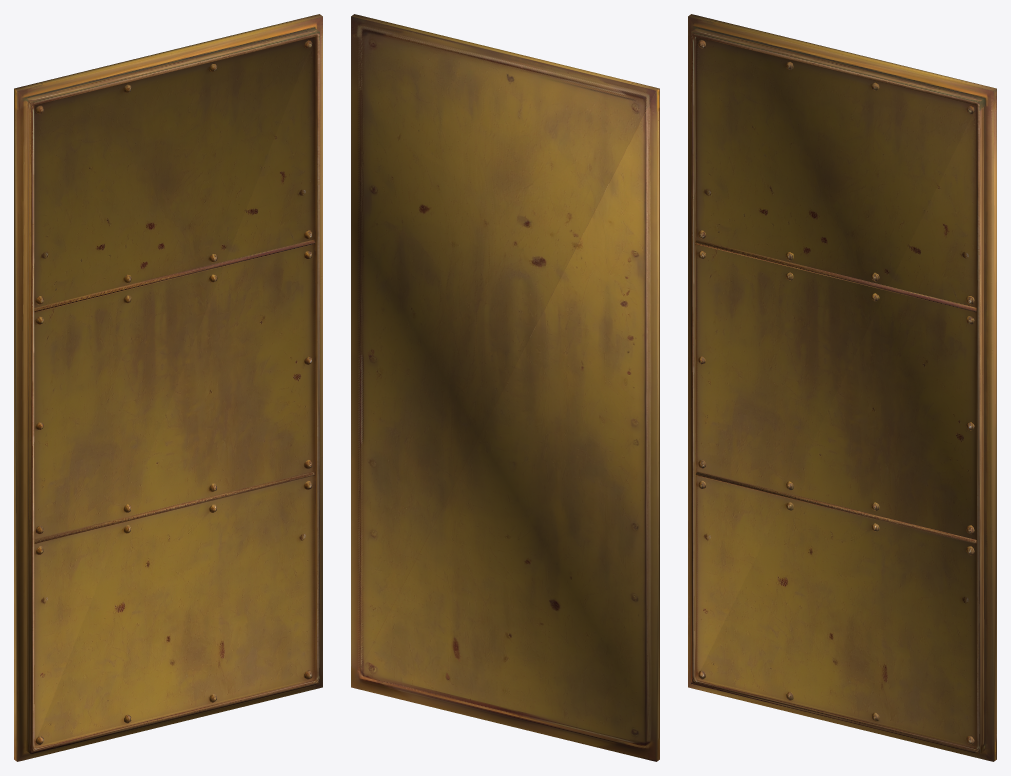
File: wall-yellow.glb
3 views of the same model, side by side, from view 1: azimuth 30°, elevation 25°; view 2: azimuth 150°, elevation 25°; view 3: azimuth 330°, elevation 25° (orthographic).
Visible parts, largest first — view 1: Meshy_Mesh_0; view 2: Meshy_Mesh_0; view 3: Meshy_Mesh_0.
Boxes of the visible parts, x1=… form: Meshy_Mesh_0: x1=14, y1=14, x2=322, y2=761; Meshy_Mesh_0: x1=351, y1=14, x2=659, y2=761; Meshy_Mesh_0: x1=688, y1=14, x2=996, y2=761.
Size of the model in its own units: 0.9531 by 2 by 0.0503.
1 material, 1 textured.
